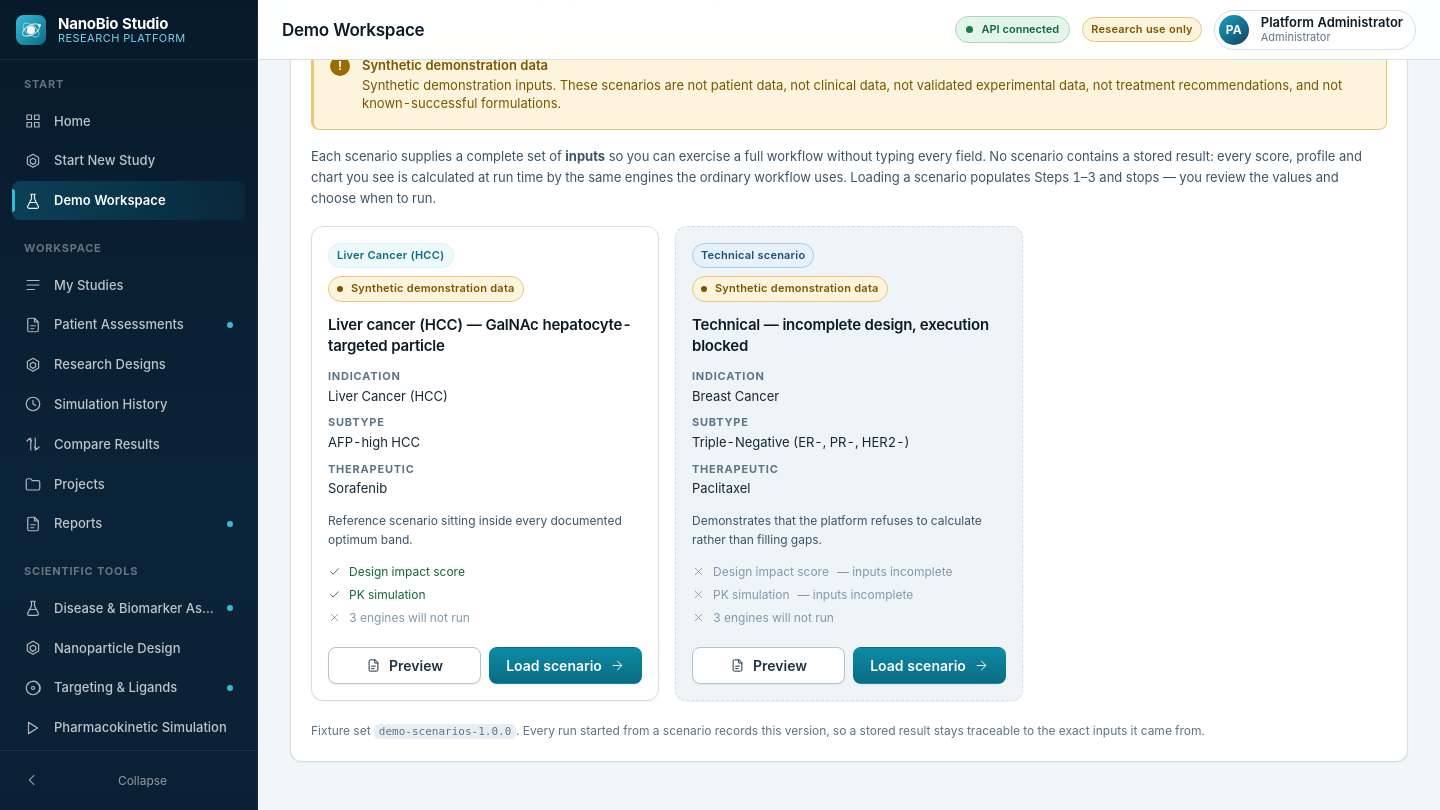
Test: scenario preview › names the engines that will not run, with reasons
(page scrolled)
expect the element with test id "scenario-cards" is shown: met, box [311,226,1023,701]
Step 1. Click the button "Preview" below "Sorafenib" → (404, 666), box [328,647,481,684]
(page scrolled)
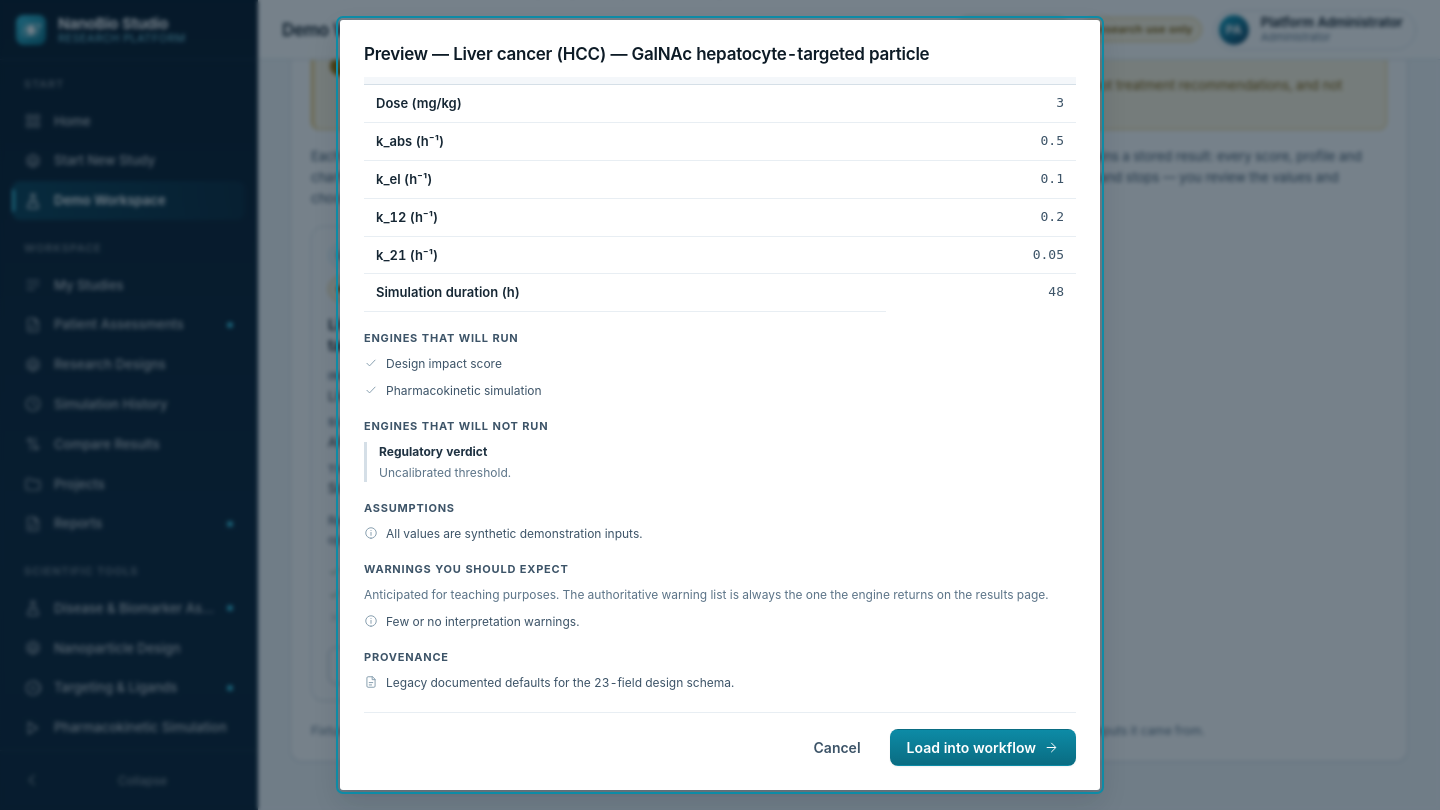
expect the list with test id "engines-not-run" shows "Regulatory verdict": met, box [379,444,487,459]
expect the list with test id "engines-not-run" shows "Uncalibrated threshold": met, box [379,465,511,480]
